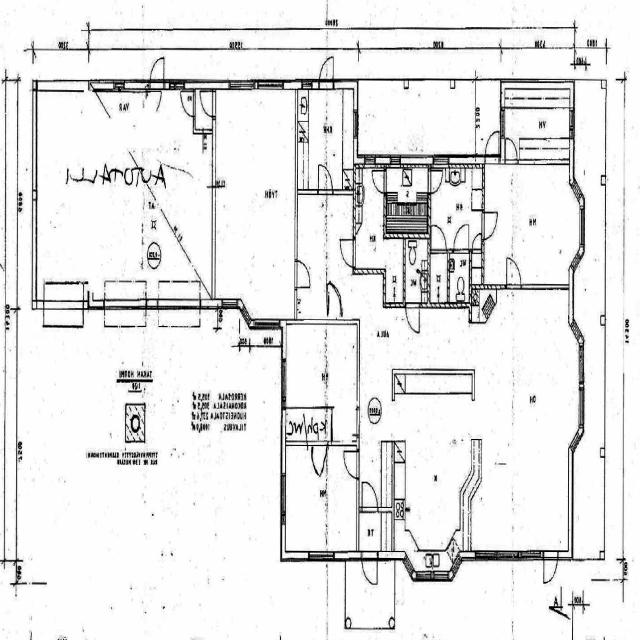door: (362, 552, 378, 592), (362, 476, 378, 512), (319, 51, 334, 89), (150, 50, 164, 89), (327, 290, 342, 325), (544, 551, 558, 588), (485, 128, 499, 165), (342, 450, 359, 480), (313, 441, 328, 475), (454, 220, 469, 254), (506, 257, 521, 289), (432, 221, 446, 254), (295, 262, 312, 289), (406, 302, 420, 334), (318, 162, 332, 194), (339, 240, 356, 266), (199, 91, 216, 116), (482, 213, 498, 239), (180, 92, 196, 116), (372, 170, 387, 193), (428, 171, 442, 193), (506, 138, 517, 164), (472, 230, 481, 253)
